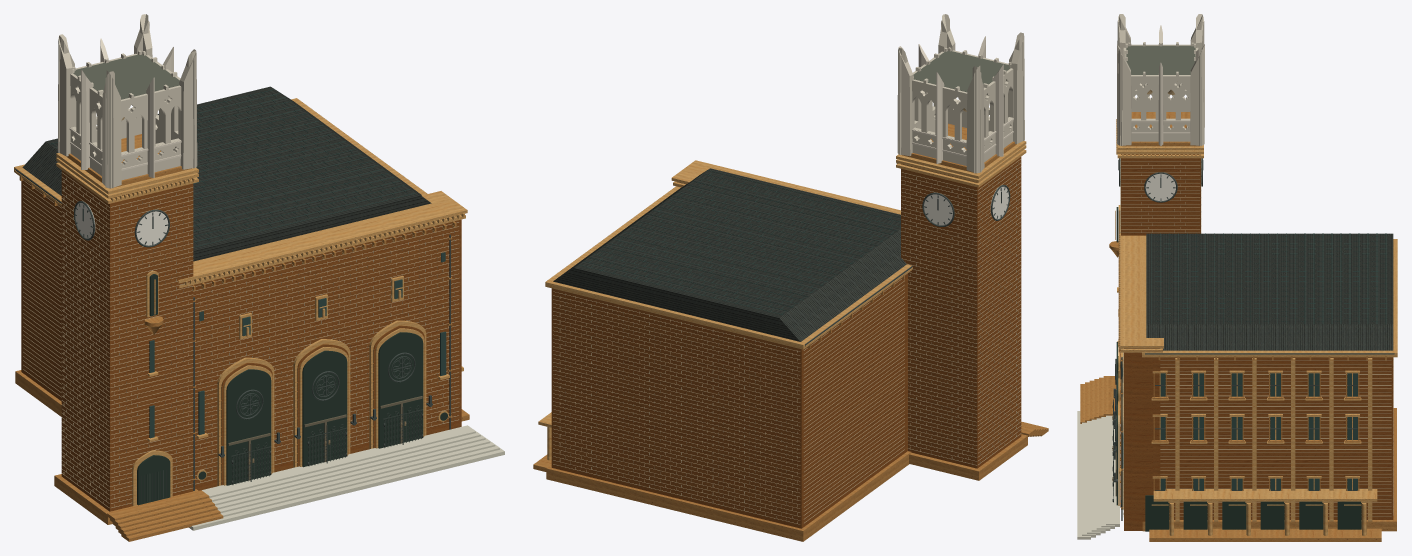
Rendered from okuma-auditorium.glb.
3 renders of one model, left to right at view 1: azimuth 30°, elevation 25°; view 2: azimuth 150°, elevation 25°; view 3: azimuth 270°, elevation 25°, orthographic. The views are drawn at different scales.
Parts seen in each view (by area): view 1: 大隈講堂 · Stone b59a66, 大隈講堂 · Slate 696e59, 大隈講堂 · Finish cbb996, 大隈講堂 · Stone e3ce9d, Raked stone corner fins and recessed Gothic bell chamber, 大隈講堂 · Finish 29392f, 大隈講堂 · Finish d9d5c1, 大隈講堂 · Finish 344c46, 大隈講堂 · Stone ccb78b, 大隈講堂 · Finish 444d48, 大隈講堂 · Finish f3eee0, 大隈講堂 · Finish 6f6751; view 2: 大隈講堂 · Stone b59a66, 大隈講堂 · Slate 696e59, 大隈講堂 · Finish cbb996, Raked stone corner fins and recessed Gothic bell chamber, 大隈講堂 · Finish 344c46, 大隈講堂 · Stone ccb78b, 大隈講堂 · Stone e3ce9d, 大隈講堂 · Finish f3eee0, 大隈講堂 · Finish 444d48; view 3: 大隈講堂 · Stone b59a66, 大隈講堂 · Slate 696e59, 大隈講堂 · Stone e3ce9d, 大隈講堂 · Finish 344c46, Raked stone corner fins and recessed Gothic bell chamber, 大隈講堂 · Stone ccb78b, 大隈講堂 · Finish cbb996, 大隈講堂 · Finish 29392f, 大隈講堂 · Finish d9d5c1, 大隈講堂 · Finish 444d48, 大隈講堂 · Finish f3eee0.
Part boxes in pixels (<box>): 大隈講堂 · Stone b59a66: <box>21,170,461,511</box>; 大隈講堂 · Slate 696e59: <box>22,86,431,261</box>; 大隈講堂 · Finish cbb996: <box>23,172,459,508</box>; 大隈講堂 · Stone e3ce9d: <box>14,98,467,505</box>; Raked stone corner fins and recessed Gothic bell chamber: <box>57,14,197,188</box>; 大隈講堂 · Finish 29392f: <box>137,274,447,505</box>; 大隈講堂 · Finish d9d5c1: <box>189,425,504,530</box>; 大隈講堂 · Finish 344c46: <box>50,89,446,438</box>; 大隈講堂 · Stone ccb78b: <box>15,134,469,541</box>; 大隈講堂 · Finish 444d48: <box>15,169,450,503</box>; 大隈講堂 · Finish f3eee0: <box>75,203,168,245</box>; 大隈講堂 · Finish 6f6751: <box>228,396,422,480</box>; 大隈講堂 · Stone b59a66: <box>551,157,1021,528</box>; 大隈講堂 · Slate 696e59: <box>553,168,906,341</box>; 大隈講堂 · Finish cbb996: <box>553,158,1021,524</box>; Raked stone corner fins and recessed Gothic bell chamber: <box>897,14,1024,173</box>; 大隈講堂 · Finish 344c46: <box>578,170,900,314</box>; 大隈講堂 · Stone ccb78b: <box>533,123,1048,541</box>; 大隈講堂 · Stone e3ce9d: <box>538,141,1026,460</box>; 大隈講堂 · Finish f3eee0: <box>924,186,1008,225</box>; 大隈講堂 · Finish 444d48: <box>805,184,1010,345</box>; 大隈講堂 · Stone b59a66: <box>1120,154,1393,530</box>; 大隈講堂 · Slate 696e59: <box>1146,233,1393,350</box>; 大隈講堂 · Stone e3ce9d: <box>1113,119,1397,535</box>; 大隈講堂 · Finish 344c46: <box>1120,233,1387,490</box>; Raked stone corner fins and recessed Gothic bell chamber: <box>1117,14,1204,145</box>; 大隈講堂 · Stone ccb78b: <box>1080,112,1396,541</box>; 大隈講堂 · Finish cbb996: <box>1120,158,1393,516</box>; 大隈講堂 · Finish 29392f: <box>1116,207,1361,531</box>; 大隈講堂 · Finish d9d5c1: <box>1077,411,1119,539</box>; 大隈講堂 · Finish 444d48: <box>1113,158,1394,520</box>; 大隈講堂 · Finish f3eee0: <box>1145,173,1175,201</box>.
Bounding box in the file's own units: 33.44 × 38 × 29.32.
Materials: 17 (4 with a texture image).
